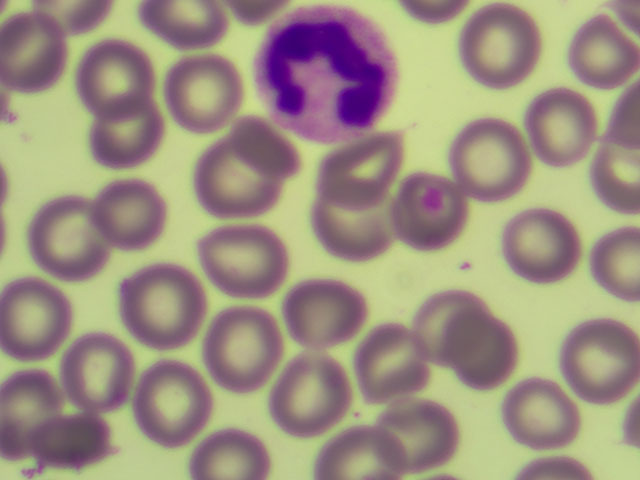RBC: (566, 215, 640, 293), (566, 143, 640, 221), (566, 57, 640, 135), (566, 13, 640, 91), (78, 36, 151, 114), (87, 100, 160, 178), (169, 51, 242, 129), (228, 104, 301, 182), (194, 146, 267, 224), (100, 178, 173, 256), (34, 199, 107, 277), (1, 369, 74, 447), (44, 402, 117, 480), (62, 334, 135, 412), (130, 362, 203, 440), (132, 268, 205, 346), (211, 223, 284, 301), (204, 308, 277, 386), (275, 354, 348, 432), (287, 273, 360, 351), (354, 321, 427, 399), (386, 395, 459, 473), (321, 402, 394, 480), (192, 402, 265, 480), (406, 281, 479, 359), (453, 317, 526, 395), (502, 371, 575, 449), (560, 317, 633, 395), (505, 203, 578, 281), (460, 5, 533, 83), (532, 81, 605, 159), (458, 120, 531, 198), (393, 179, 466, 257), (325, 117, 398, 195), (314, 192, 387, 270), (1, 10, 73, 88), (1, 280, 73, 358), (141, 1, 234, 44)
WBC: (253, 3, 396, 140)
